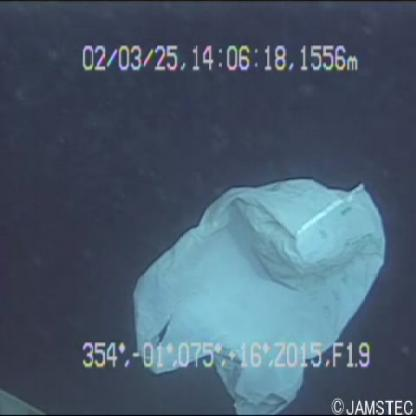Rov: (1, 372, 51, 416)
Rác: (115, 150, 389, 416)
